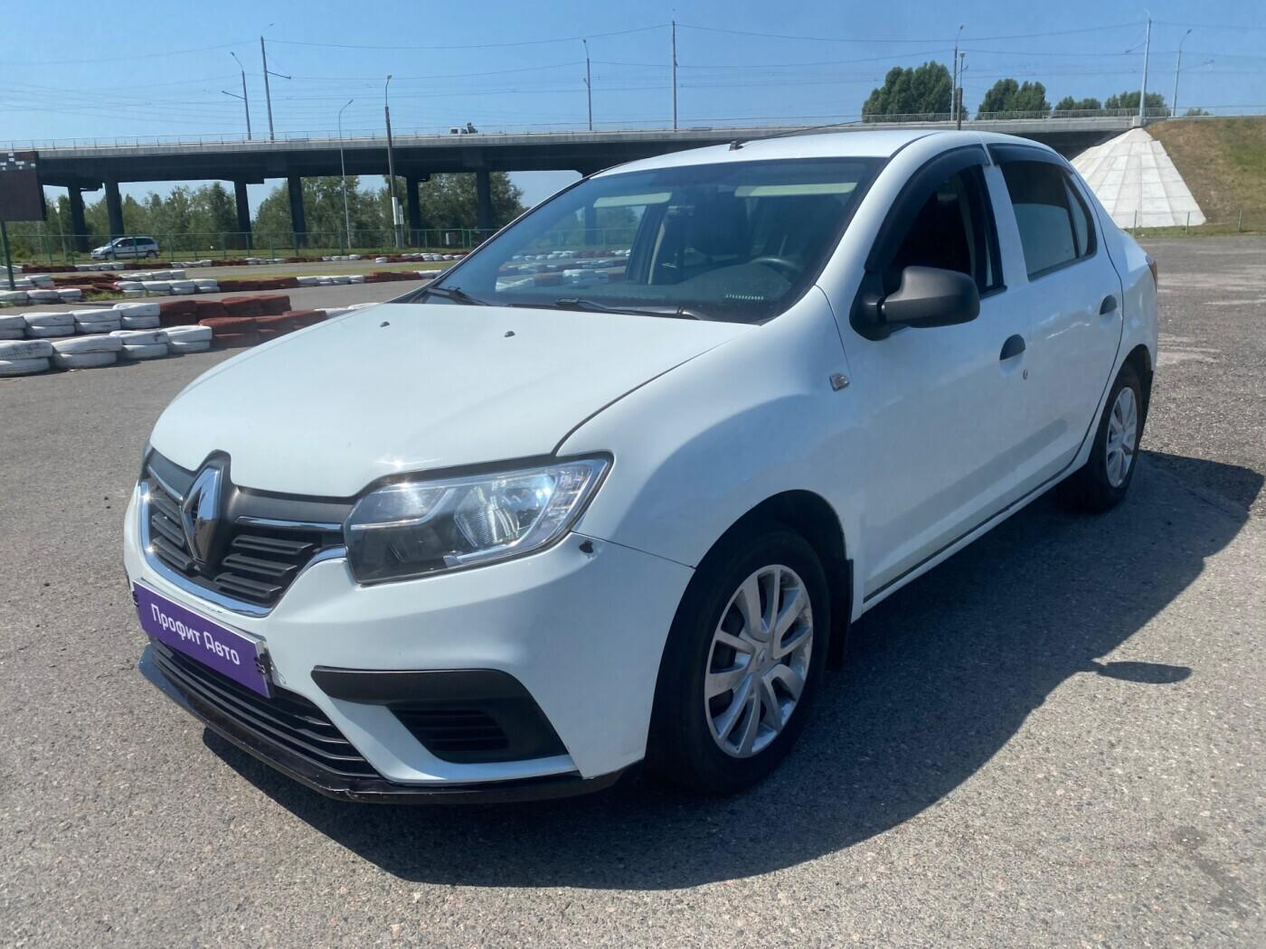Logan_2018: (120, 127, 1163, 812)
